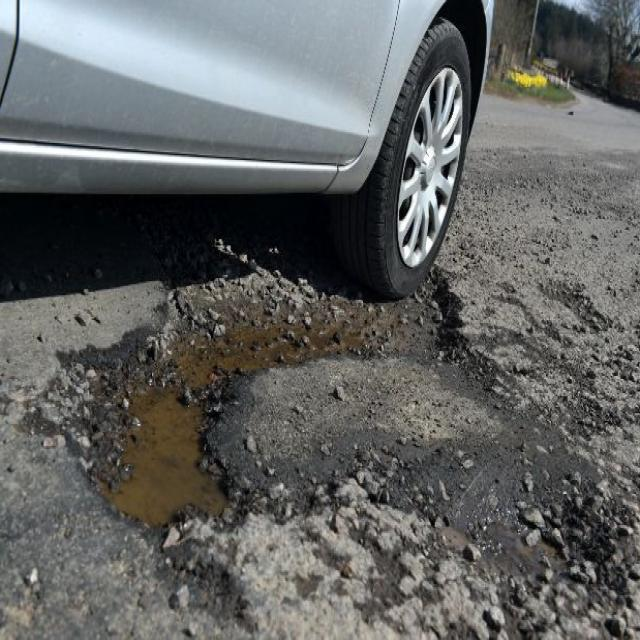pothole: (32, 280, 477, 540)
